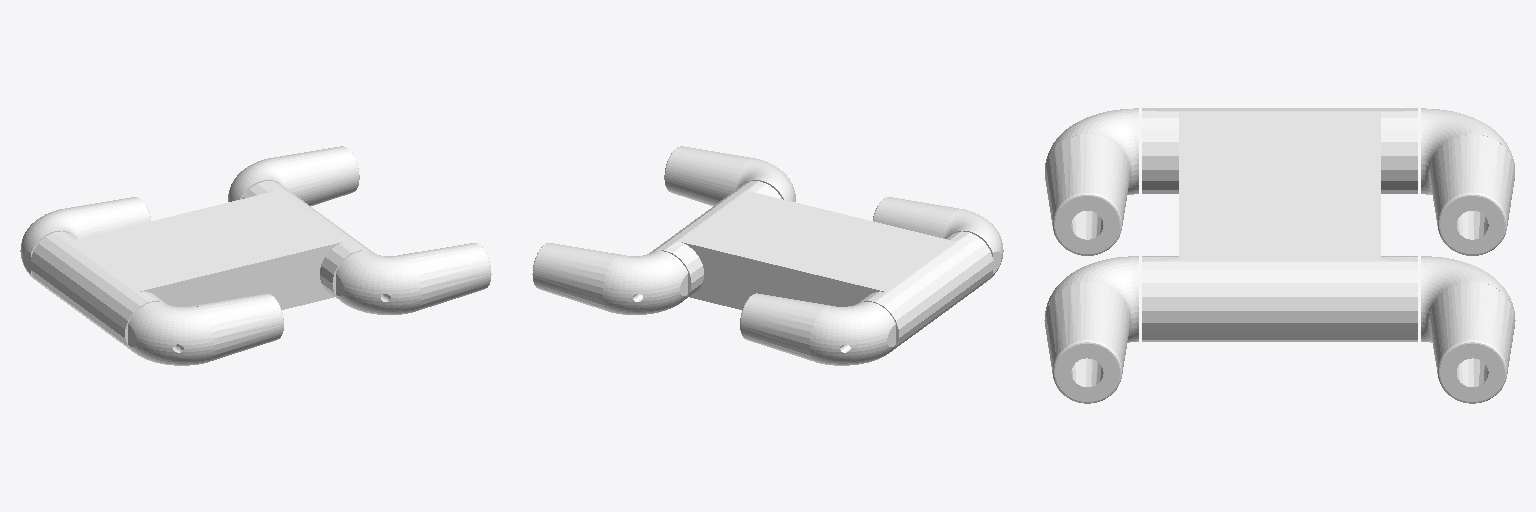
URDF robot description (0_degree):
<?xml version="1.0" encoding="utf-8"?>
<!-- This URDF was automatically created by SolidWorks to URDF Exporter! Originally created by [author] ([email redacted]) 
     Commit Version: 1.5.1-0-g916b5db  Build Version: 1.5.7152.31018
     For more information, please see http://wiki.ros.org/sw_urdf_exporter -->
<robot
  name="0_degree">
  <link
    name="base_link">
    <inertial>
      <origin
        xyz="0 -1.6653E-16 1.7347E-18"
        rpy="0 0 0" />
      <mass
        value="2.803" />
      <inertia
        ixx="0.009830453"
        ixy="-6.6937E-19"
        ixz="-3.5461E-19"
        iyy="0.035244163"
        iyz="-2.2961E-18"
        izz="0.042800717" />
    </inertial>
    <visual>
      <origin
        xyz="0 0 0"
        rpy="0 0 0" />
      <geometry>
        <mesh
          filename="package://0_degree/meshes/base_link.STL" />
      </geometry>
      <material
        name="">
        <color
          rgba="1 1 1 1" />
      </material>
    </visual>
    <collision>
      <origin
        xyz="0 0 0"
        rpy="0 0 0" />
      <geometry>
        <mesh
          filename="package://0_degree/meshes/base_link.STL" />
      </geometry>
    </collision>
  </link>
  <link
    name="left_fromt_link">
    <inertial>
      <origin
        xyz="-2.4843E-07 0.047047 -0.035562"
        rpy="0 0 0" />
      <mass
        value="0.0769" />
      <inertia
        ixx="0.000164541"
        ixy="6.3951E-10"
        ixz="5.8383E-10"
        iyy="0.000045093"
        iyz="1.7464E-05"
        izz="0.000162052" />
    </inertial>
    <visual>
      <origin
        xyz="0 0 0"
        rpy="0 0 0" />
      <geometry>
        <mesh
          filename="package://0_degree/meshes/left_fromt_link.STL" />
      </geometry>
      <material
        name="">
        <color
          rgba="1 1 1 1" />
      </material>
    </visual>
    <collision>
      <origin
        xyz="0 0 0"
        rpy="0 0 0" />
      <geometry>
        <mesh
          filename="package://0_degree/meshes/left_fromt_link.STL" />
      </geometry>
    </collision>
  </link>
  <joint
    name="left_front_leg"
    type="continuous">
    <origin
      xyz="0.13 0.103 0"
      rpy="1.5708 1.5708 0" />
    <parent
      link="base_link" />
    <child
      link="left_fromt_link" />
    <axis
      xyz="0 0 -1" />
    <limit
      effort="5"
      velocity="487" />
  </joint>
  <link
    name="right_front_link">
    <inertial>
      <origin
        xyz="2.4843E-07 0.047047 0.035562"
        rpy="0 0 0" />
      <mass
        value="0.0769" />
      <inertia
        ixx="0.000164541"
        ixy="-6.3951E-10"
        ixz="5.8383E-10"
        iyy="0.000045093"
        iyz="-1.7464E-05"
        izz="0.000162052" />
    </inertial>
    <visual>
      <origin
        xyz="0 0 0"
        rpy="0 0 0" />
      <geometry>
        <mesh
          filename="package://0_degree/meshes/right_front_link.STL" />
      </geometry>
      <material
        name="">
        <color
          rgba="1 1 1 1" />
      </material>
    </visual>
    <collision>
      <origin
        xyz="0 0 0"
        rpy="0 0 0" />
      <geometry>
        <mesh
          filename="package://0_degree/meshes/right_front_link.STL" />
      </geometry>
    </collision>
  </link>
  <joint
    name="right_front_leg"
    type="continuous">
    <origin
      xyz="0.13 -0.103 0"
      rpy="1.5708 1.5708 0" />
    <parent
      link="base_link" />
    <child
      link="right_front_link" />
    <axis
      xyz="0 0 1" />
    <limit
      effort="5"
      velocity="487" />
  </joint>
  <link
    name="right_back_link">
    <inertial>
      <origin
        xyz="2.4843E-07 0.047047 0.035562"
        rpy="0 0 0" />
      <mass
        value="0.0769" />
      <inertia
        ixx="0.000164541"
        ixy="-6.3951E-10"
        ixz="5.8383E-10"
        iyy="0.000045093"
        iyz="-1.7464E-05"
        izz="0.000162052" />
    </inertial>
    <visual>
      <origin
        xyz="0 0 0"
        rpy="0 0 0" />
      <geometry>
        <mesh
          filename="package://0_degree/meshes/right_back_link.STL" />
      </geometry>
      <material
        name="">
        <color
          rgba="1 1 1 1" />
      </material>
    </visual>
    <collision>
      <origin
        xyz="0 0 0"
        rpy="0 0 0" />
      <geometry>
        <mesh
          filename="package://0_degree/meshes/right_back_link.STL" />
      </geometry>
    </collision>
  </link>
  <joint
    name="right_back_leg"
    type="continuous">
    <origin
      xyz="-0.13 -0.103 0"
      rpy="1.5708 1.5708 0" />
    <parent
      link="base_link" />
    <child
      link="right_back_link" />
    <axis
      xyz="0 0 1" />
    <limit
      effort="5"
      velocity="487" />
  </joint>
  <link
    name="left_back_link">
    <inertial>
      <origin
        xyz="-2.4843E-07 0.047047 -0.035562"
        rpy="0 0 0" />
      <mass
        value="0.0769" />
      <inertia
        ixx="0.000164541"
        ixy="6.3951E-10"
        ixz="5.8383E-10"
        iyy="0.000045093"
        iyz="1.7464E-05"
        izz="0.000162052" />
    </inertial>
    <visual>
      <origin
        xyz="0 0 0"
        rpy="0 0 0" />
      <geometry>
        <mesh
          filename="package://0_degree/meshes/left_back_link.STL" />
      </geometry>
      <material
        name="">
        <color
          rgba="1 1 1 1" />
      </material>
    </visual>
    <collision>
      <origin
        xyz="0 0 0"
        rpy="0 0 0" />
      <geometry>
        <mesh
          filename="package://0_degree/meshes/left_back_link.STL" />
      </geometry>
    </collision>
  </link>
  <joint
    name="left_back_leg"
    type="continuous">
    <origin
      xyz="-0.13 0.103 0"
      rpy="1.5708 1.5708 0" />
    <parent
      link="base_link" />
    <child
      link="left_back_link" />
    <axis
      xyz="0 0 -1" />
    <limit
      effort="5"
      velocity="487" />
  </joint>
</robot>

--- What the picture shows (computed from the rendered views, not written in the file) ---
The picture shows the robot from 3 angles, left to right: view 1: azimuth 30°, elevation 25°; view 2: azimuth 150°, elevation 25°; view 3: azimuth 270°, elevation 25°; orthographic projection.
Model 0_degree with 5 links and 4 joints (4 continuous), rooted at base_link, posed every joint at zero.
Links seen in each view (by area): view 1: base_link, right_back_link, right_front_link, left_fromt_link, left_back_link; view 2: base_link, left_back_link, left_fromt_link, right_front_link, right_back_link; view 3: base_link, left_fromt_link, right_front_link, right_back_link, left_back_link.
Boxes of the visible links, <box> form: base_link: <box>30,181,373,351</box>; right_back_link: <box>128,293,283,365</box>; right_front_link: <box>336,243,491,314</box>; left_fromt_link: <box>228,146,359,205</box>; left_back_link: <box>20,197,150,279</box>; base_link: <box>650,181,993,351</box>; left_back_link: <box>740,293,895,365</box>; left_fromt_link: <box>532,243,687,314</box>; right_front_link: <box>664,146,795,205</box>; right_back_link: <box>873,197,1003,279</box>; base_link: <box>1142,108,1417,341</box>; left_fromt_link: <box>1421,256,1515,403</box>; right_front_link: <box>1044,256,1138,403</box>; right_back_link: <box>1045,108,1138,255</box>; left_back_link: <box>1421,108,1514,255</box>.
Size in the robot's own frame: 0.4216 by 0.3504 by 0.064 metres.
5 mesh visuals loaded from 5 distinct referenced files (5 binary STL).